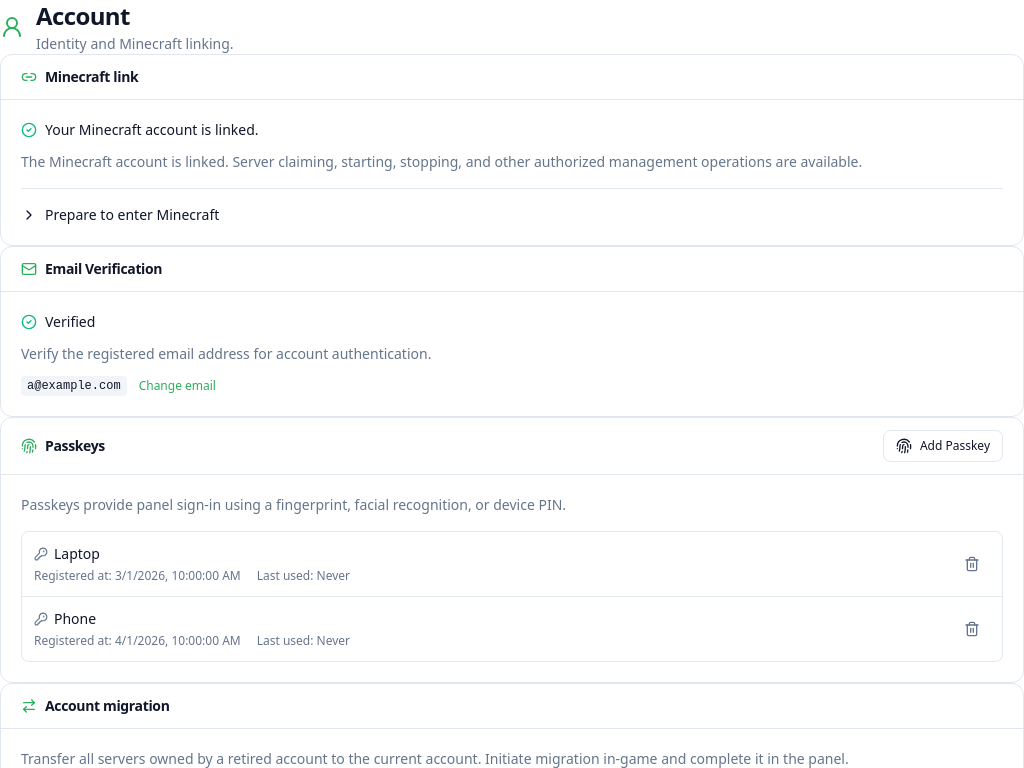
Test case: Account re-authentication › closing the check keeps the passkey and the delete dialog, with no error
The width and height of the screenshot is (1024, 768).
Click the button named "Delete passkey “Laptop”" at point(972, 564), box [954, 546, 990, 582]
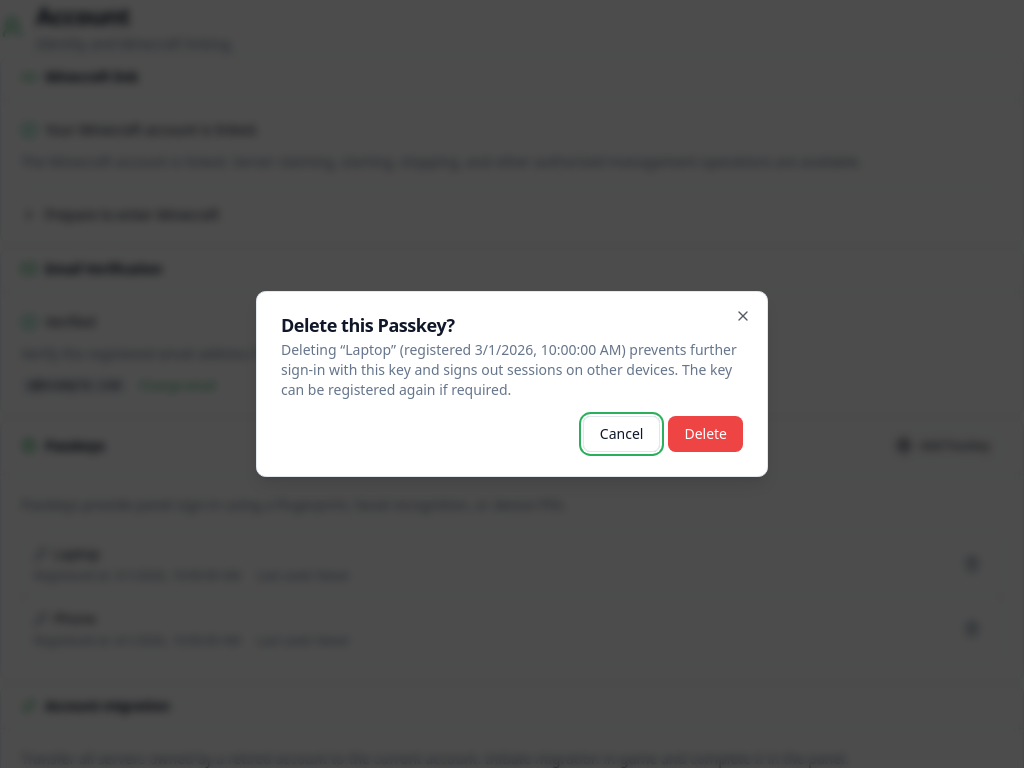
Click the button "Delete" at point(706, 434), box [668, 416, 743, 452]
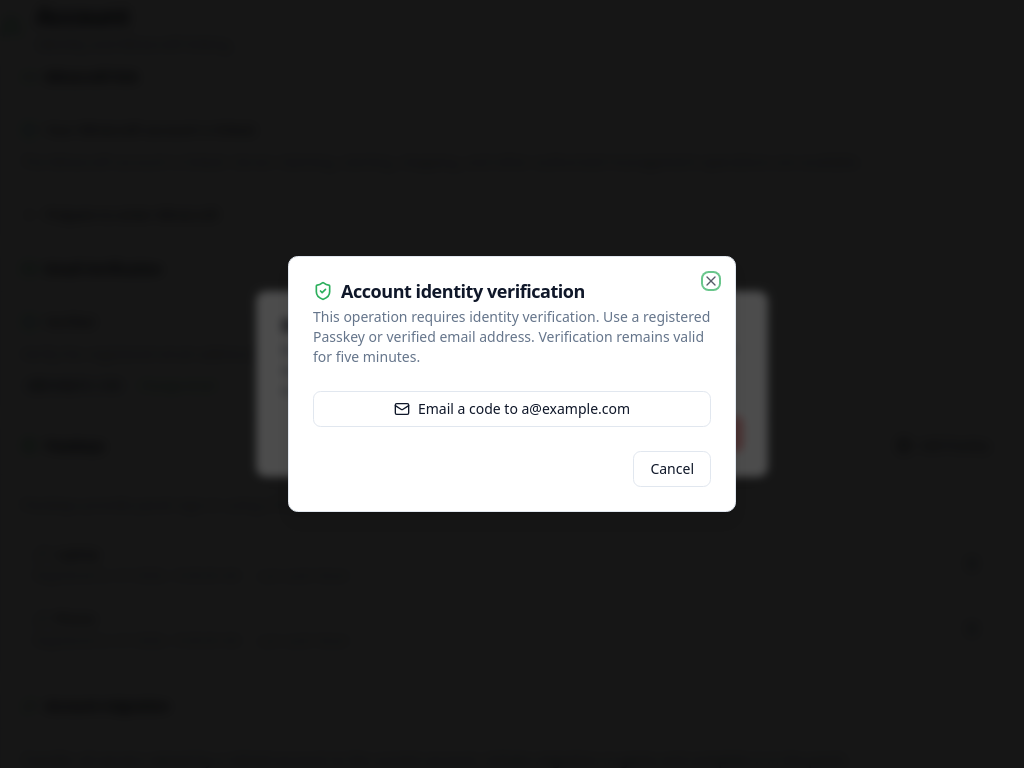
Click the button "Cancel" at point(672, 469), box [633, 451, 711, 487]
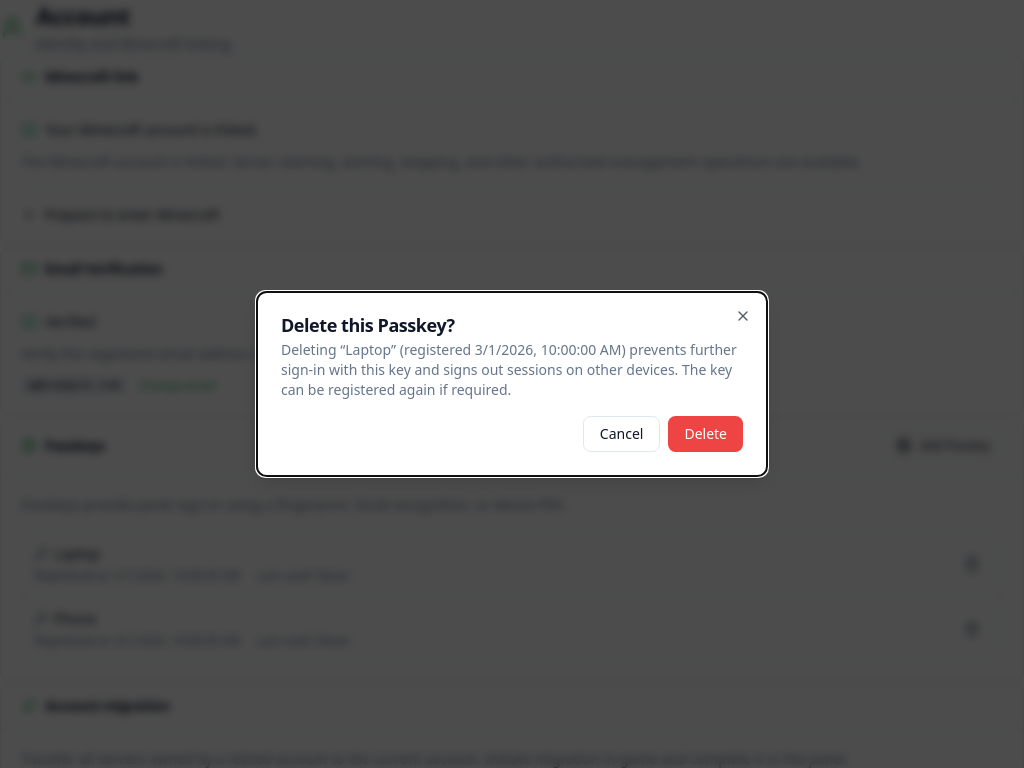
Expected: the heading "Account identity verification" is gone
